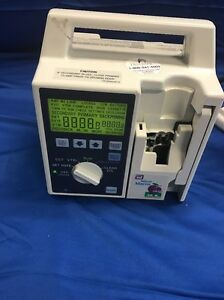plumxl1: (32, 7, 218, 204)
